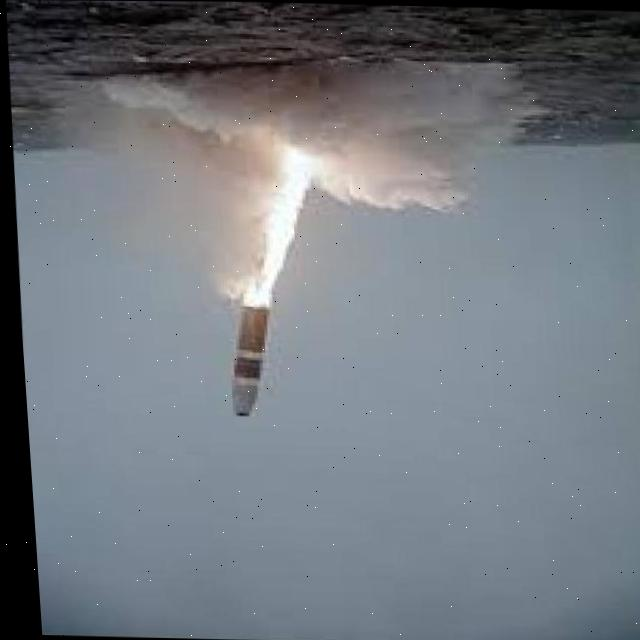missile: (211, 297, 284, 422)
